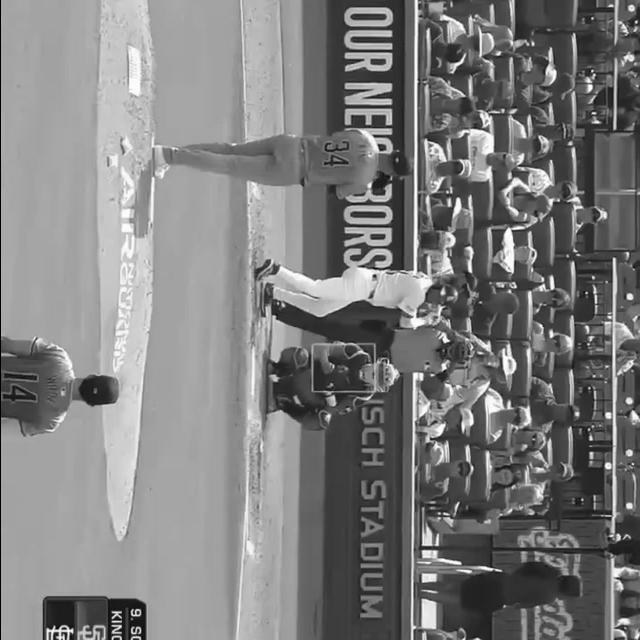base: (247, 344, 258, 404)
baseball_glove: (312, 367, 352, 398)
bat: (437, 234, 449, 279)
shoe: (148, 140, 170, 186), (251, 256, 279, 285), (258, 280, 276, 318)
